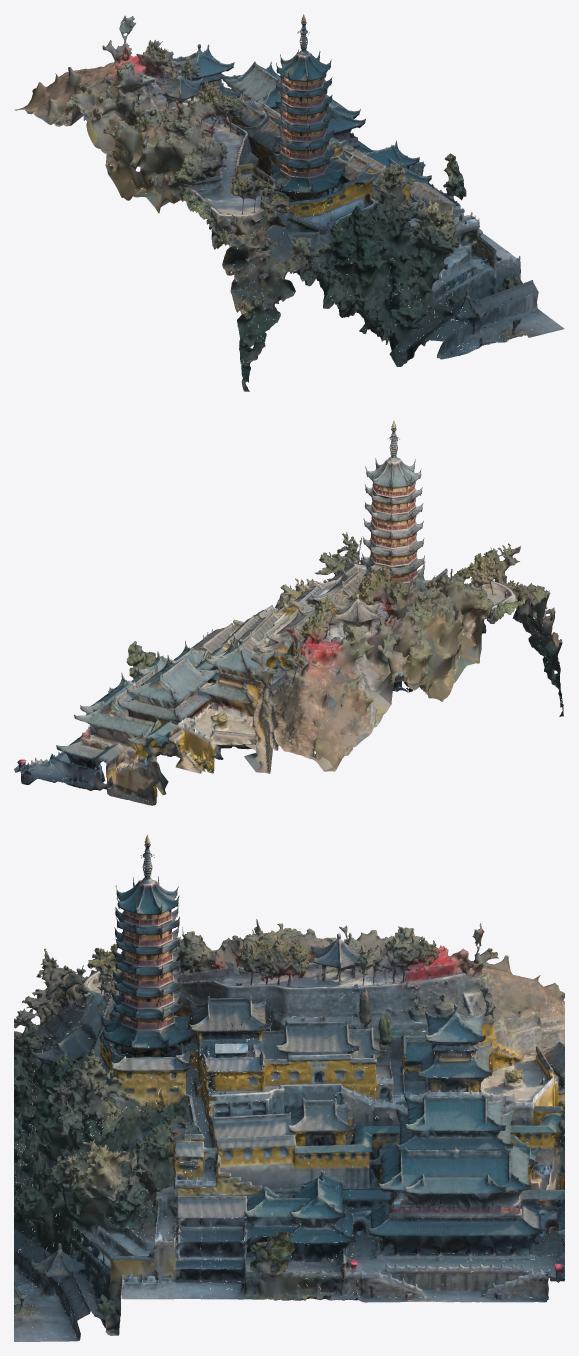
File: pagoda_lite.glb
3 renders of one model, top to bottom at view 1: azimuth 30°, elevation 25°; view 2: azimuth 150°, elevation 25°; view 3: azimuth 270°, elevation 25°, orthographic. The views are drawn at different scales.
Visible parts, largest first — view 1: Object_2, Object_4, Object_9, Object_10, Object_6, Object_8, Object_5, Object_12, Object_11, Object_13, Object_3, Object_7 (+1 smaller); view 2: Object_12, Object_2, Object_13, Object_6, Object_11, Object_7, Object_9, Object_8, Object_3, Object_10, Object_4, Object_14 (+1 smaller); view 3: Object_7, Object_10, Object_2, Object_12, Object_8, Object_11, Object_3, Object_4, Object_9, Object_13, Object_5, Object_6 (+1 smaller).
Boxes of the visible parts, bbox=[...] form: Object_2: bbox=[14, 82, 564, 391]; Object_4: bbox=[244, 142, 468, 351]; Object_9: bbox=[88, 39, 483, 376]; Object_10: bbox=[159, 113, 561, 367]; Object_6: bbox=[128, 74, 352, 275]; Object_8: bbox=[107, 40, 359, 314]; Object_5: bbox=[197, 96, 468, 347]; Object_12: bbox=[23, 61, 365, 184]; Object_11: bbox=[72, 14, 507, 331]; Object_13: bbox=[48, 40, 355, 317]; Object_3: bbox=[136, 70, 472, 350]; Object_7: bbox=[131, 96, 412, 273]; Object_12: bbox=[74, 578, 514, 788]; Object_2: bbox=[14, 576, 563, 805]; Object_13: bbox=[151, 543, 520, 772]; Object_6: bbox=[272, 481, 548, 680]; Object_11: bbox=[108, 420, 429, 707]; Object_7: bbox=[17, 570, 550, 804]; Object_9: bbox=[173, 572, 562, 717]; Object_8: bbox=[16, 550, 530, 805]; Object_3: bbox=[196, 553, 440, 671]; Object_10: bbox=[129, 567, 558, 692]; Object_4: bbox=[256, 546, 417, 687]; Object_14: bbox=[372, 554, 516, 608]; Object_7: bbox=[58, 967, 564, 1300]; Object_10: bbox=[14, 940, 353, 1341]; Object_2: bbox=[14, 921, 564, 1341]; Object_12: bbox=[14, 930, 564, 1264]; Object_8: bbox=[31, 937, 564, 1301]; Object_11: bbox=[32, 834, 499, 1308]; Object_3: bbox=[31, 923, 353, 1290]; Object_4: bbox=[27, 968, 232, 1263]; Object_9: bbox=[14, 926, 491, 1297]; Object_13: bbox=[32, 944, 564, 1157]; Object_5: bbox=[32, 929, 266, 1285]; Object_6: bbox=[49, 906, 313, 1105].
Bounding box in the file's own units: 328 × 318 × 407.
1 material, 1 textured.
